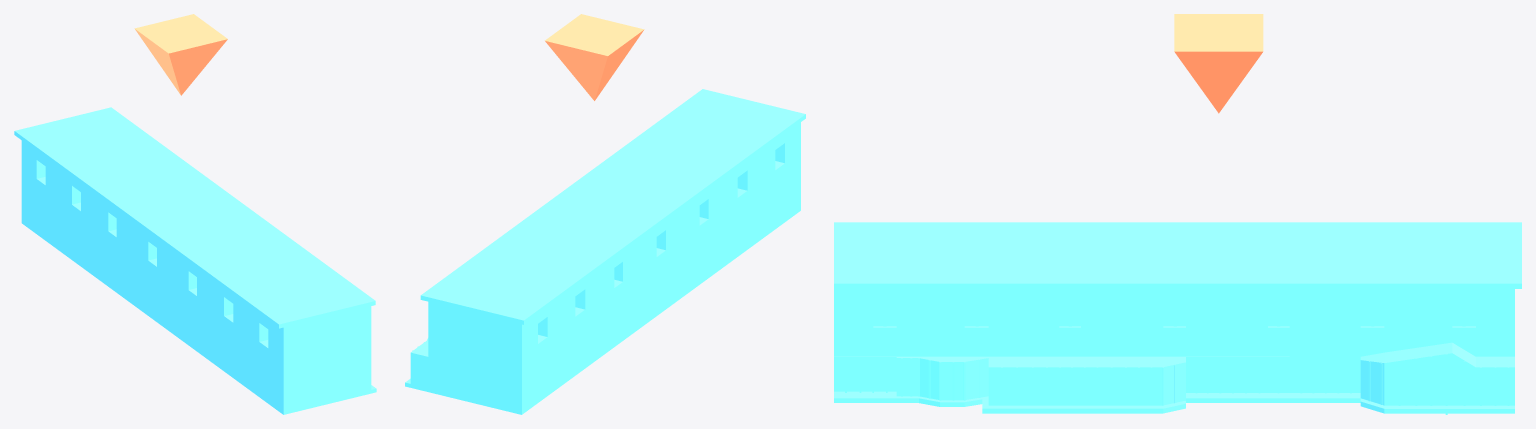
Rendered from build20.gltf.
The picture shows the model from 3 angles, left to right: view 1: azimuth 30°, elevation 25°; view 2: azimuth 150°, elevation 25°; view 3: azimuth 270°, elevation 25°; orthographic projection. The views are drawn at different scales.
Parts seen in each view (by area): view 1: subject, fire-mark; view 2: subject, fire-mark; view 3: subject, fire-mark.
Boxes of the visible parts, box(x1,y1,x2,y2) form: subject: box(14, 107, 376, 414); fire-mark: box(134, 14, 227, 95); subject: box(405, 89, 805, 414); fire-mark: box(545, 14, 644, 100); subject: box(834, 222, 1521, 414); fire-mark: box(1174, 14, 1263, 113).
Bounding box in the file's own units: 11.22 × 24.91 × 45.07.
